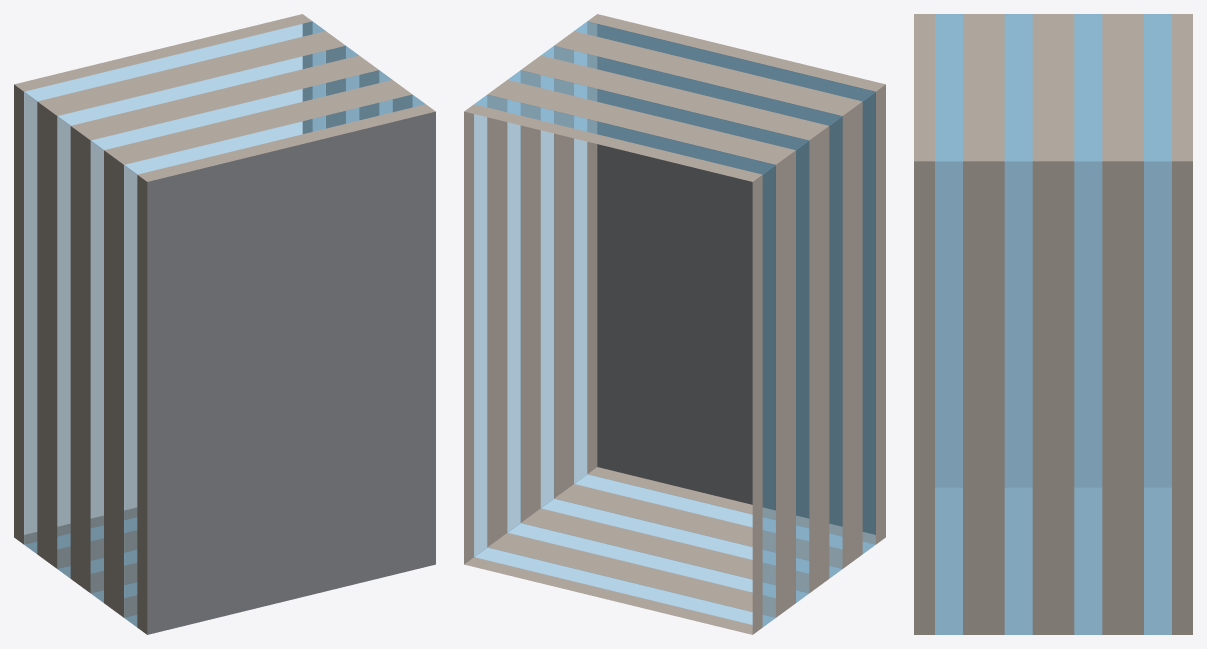
3 renders of one model, left to right at view 1: azimuth 30°, elevation 25°; view 2: azimuth 150°, elevation 25°; view 3: azimuth 270°, elevation 25°, orthographic. The views are drawn at different scales.
Parts seen in each view (by area): view 1: Atap_Beton, Dinding_Bata, Kaca_Jendela; view 2: Dinding_Bata, Atap_Beton, Kaca_Jendela; view 3: Dinding_Bata, Kaca_Jendela.
Part boxes in pixels (x1,y1,x2,y2): Atap_Beton: (147,111,435,634); Dinding_Bata: (14,14,435,634); Kaca_Jendela: (24,21,425,627); Dinding_Bata: (464,14,885,634); Atap_Beton: (597,24,875,534); Kaca_Jendela: (474,21,875,627); Dinding_Bata: (914,14,1192,634); Kaca_Jendela: (935,14,1171,634).
Size of the model in its own units: 20 by 30 by 16.
